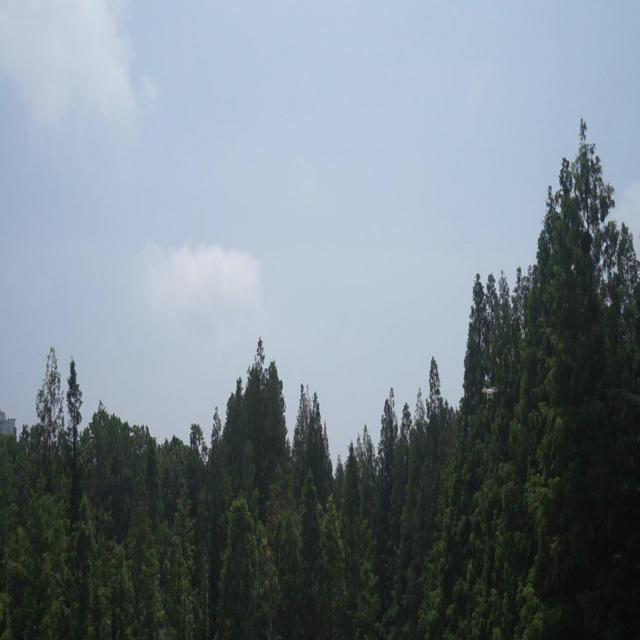UAV: (481, 387, 498, 399)
